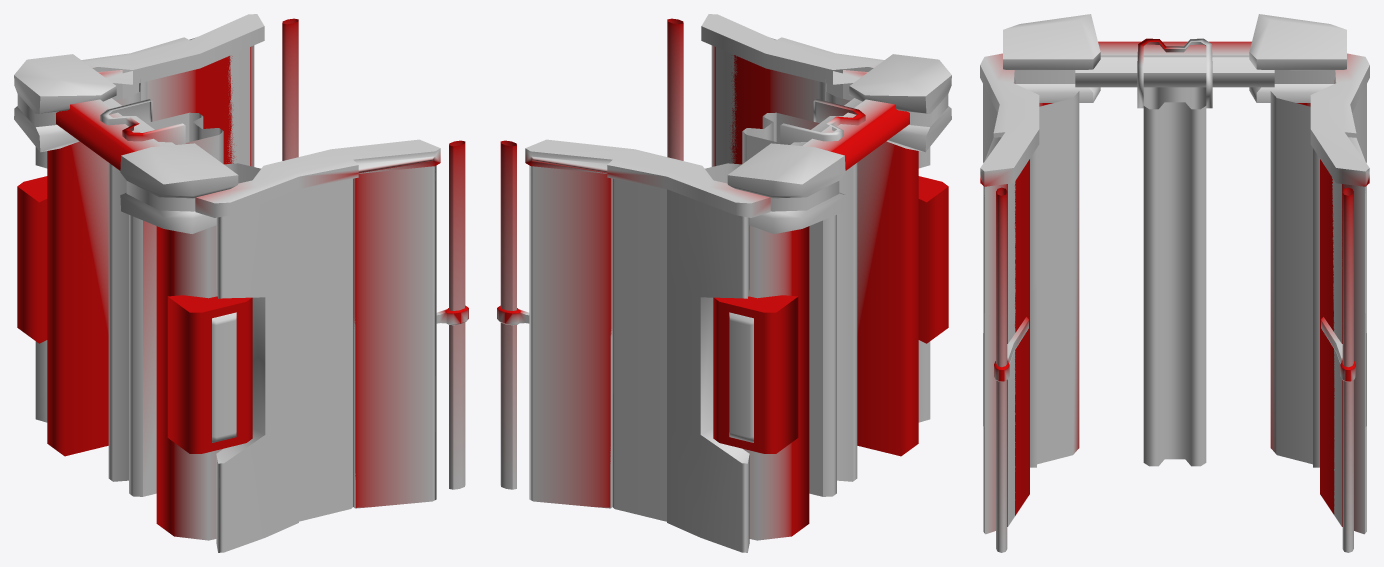
The model's file is midliftmk5.fbx.
3 views of the same model, side by side, from view 1: azimuth 30°, elevation 25°; view 2: azimuth 150°, elevation 25°; view 3: azimuth 270°, elevation 25° (orthographic). The views are drawn at different scales.
Parts seen in each view (by area): view 1: ConveyorLiftMid_Mk5_static_LOD0; view 2: ConveyorLiftMid_Mk5_static_LOD0; view 3: ConveyorLiftMid_Mk5_static_LOD0.
Boxes of the visible parts, x1,y1,x2,y2 form: ConveyorLiftMid_Mk5_static_LOD0: (14,14,468,552); ConveyorLiftMid_Mk5_static_LOD0: (497,14,951,552); ConveyorLiftMid_Mk5_static_LOD0: (980,14,1369,552).
Bounding box in the file's own units: 186 × 220 × 198.
